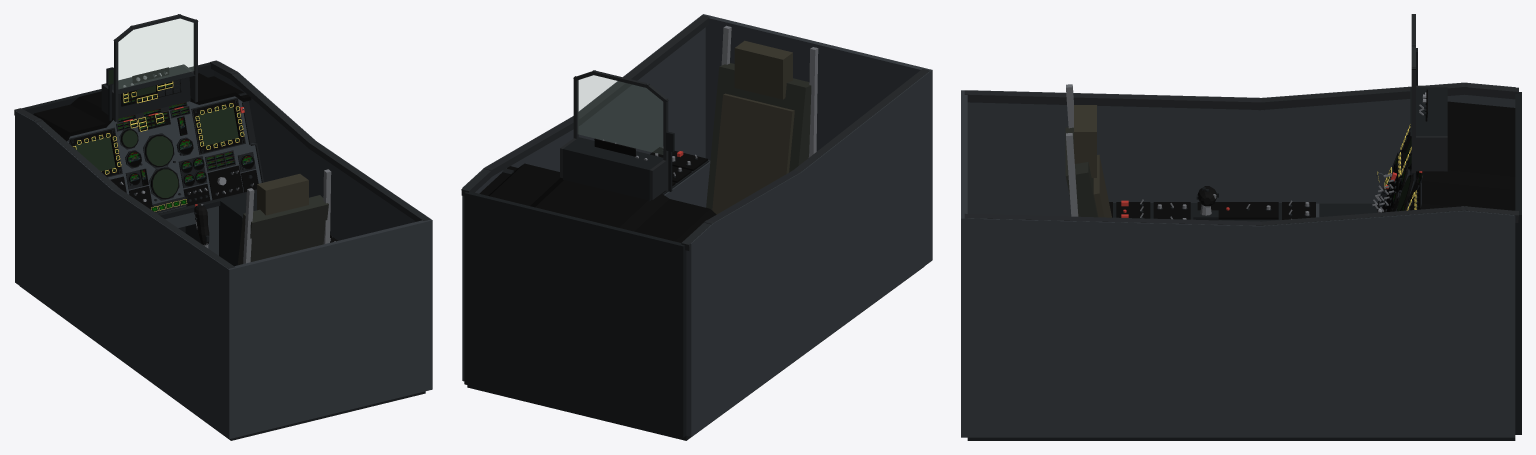
Rendered from cockpit_a10.glb.
The picture shows the model from 3 angles, left to right: view 1: azimuth 30°, elevation 25°; view 2: azimuth 150°, elevation 25°; view 3: azimuth 270°, elevation 25°; orthographic projection. The views are drawn at different scales.
Parts seen in each view (by area): view 1: panel_grey.005, panel_grey.007, panel_grey.006, hud_glass_69, seat_95, panel_grey.002, black, cushion_97, dark.014, frame.003, screen_right, frame.004 (+16 smaller); view 2: panel_grey.005, dark, panel_grey.007, panel_grey.006, black, cushion_96, hud_glass_69, seat_95, cushion_97, dark.023, frame.003, dark.024 (+8 smaller); view 3: panel_grey.006, panel_grey.005, black, frame, panel_grey.007, dark, dark.010, frame.001, dark.024, frame.003, cushion_97, frame.012 (+8 smaller).
Boxes of the visible parts, bbox=[...] form: panel_grey.005: bbox=[15, 110, 226, 436]; panel_grey.007: bbox=[226, 218, 432, 439]; panel_grey.006: bbox=[214, 61, 429, 240]; hud_glass_69: bbox=[118, 19, 193, 88]; seat_95: bbox=[237, 195, 328, 265]; panel_grey.002: bbox=[109, 101, 261, 213]; black: bbox=[33, 73, 243, 141]; cushion_97: bbox=[257, 174, 308, 215]; dark.014: bbox=[219, 192, 256, 266]; frame.003: bbox=[307, 141, 430, 221]; screen_right: bbox=[198, 106, 238, 145]; frame.004: bbox=[229, 71, 315, 148]; panel_grey.005: bbox=[686, 72, 929, 436]; dark: bbox=[464, 192, 686, 437]; panel_grey.007: bbox=[701, 14, 932, 261]; panel_grey.006: bbox=[462, 16, 705, 381]; black: bbox=[488, 163, 716, 242]; cushion_96: bbox=[712, 93, 794, 214]; hud_glass_69: bbox=[578, 75, 662, 154]; seat_95: bbox=[706, 63, 811, 209]; cushion_97: bbox=[734, 40, 792, 99]; dark.023: bbox=[563, 156, 650, 201]; frame.003: bbox=[578, 15, 709, 123]; dark.024: bbox=[563, 137, 663, 176]; panel_grey.006: bbox=[967, 210, 1515, 437]; panel_grey.005: bbox=[967, 82, 1515, 216]; black: bbox=[1420, 102, 1515, 210]; frame: bbox=[964, 90, 1265, 110]; panel_grey.007: bbox=[961, 90, 967, 437]; dark: bbox=[1515, 92, 1521, 434]; dark.010: bbox=[967, 437, 1515, 440]; frame.001: bbox=[1259, 82, 1468, 110]; dark.024: bbox=[1410, 87, 1447, 136]; frame.003: bbox=[964, 213, 1261, 225]; cushion_97: bbox=[1074, 105, 1096, 177]; frame.012: bbox=[1414, 136, 1447, 171].
Size of the model in its own units: 0.9 by 1.14 by 1.66.
27 materials, 6 textured.
